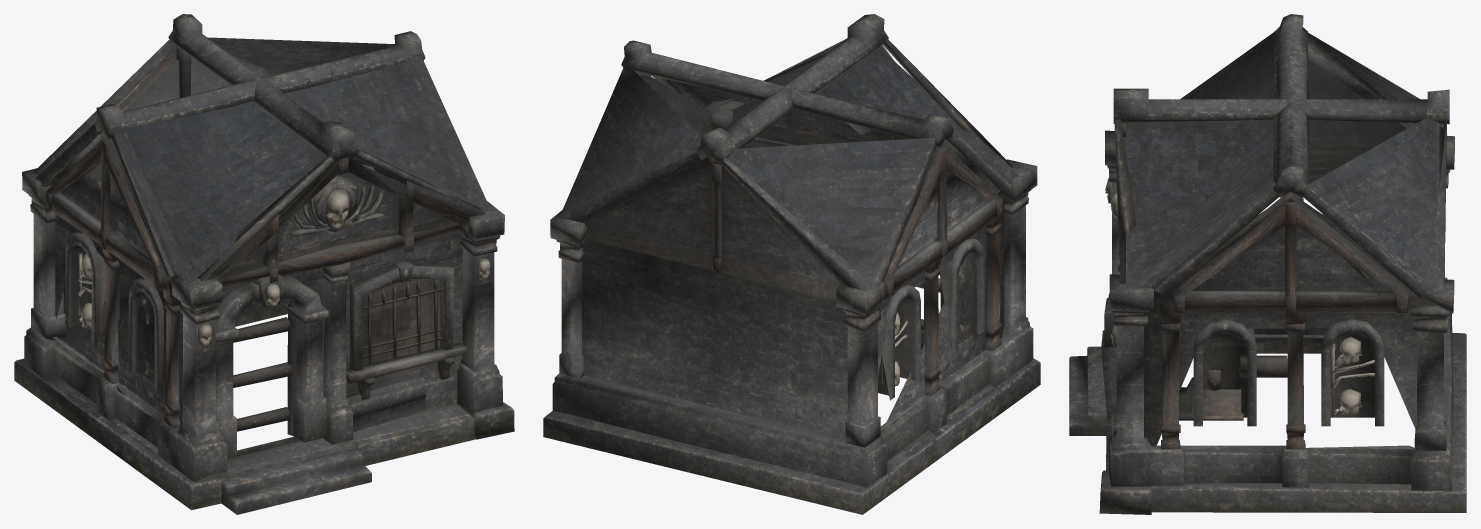
File: bank.glb
The picture shows the model from 3 angles, left to right: view 1: azimuth 30°, elevation 25°; view 2: azimuth 150°, elevation 25°; view 3: azimuth 270°, elevation 25°; orthographic projection. The views are drawn at different scales.
Visible parts, largest first — view 1: tripo_node_3210f237-92e6-4532-be8e-fe158adff1b6; view 2: tripo_node_3210f237-92e6-4532-be8e-fe158adff1b6; view 3: tripo_node_3210f237-92e6-4532-be8e-fe158adff1b6.
Boxes of the visible parts, <box> form: tripo_node_3210f237-92e6-4532-be8e-fe158adff1b6: <box>14,14,514,514</box>; tripo_node_3210f237-92e6-4532-be8e-fe158adff1b6: <box>543,14,1040,514</box>; tripo_node_3210f237-92e6-4532-be8e-fe158adff1b6: <box>1069,14,1466,514</box>.
Bounding box in the file's own units: 0.959 × 0.9512 × 0.998.
1 material, 1 textured.
